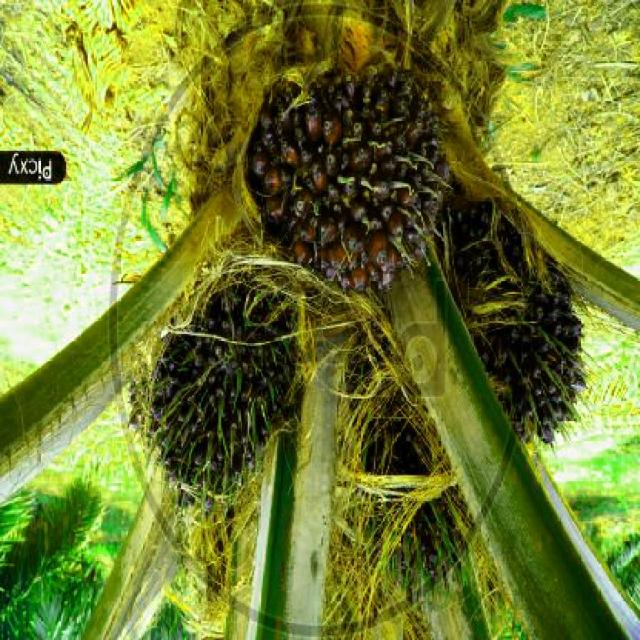palm-oil: (259, 45, 454, 287), (438, 199, 600, 457), (158, 287, 313, 468)
